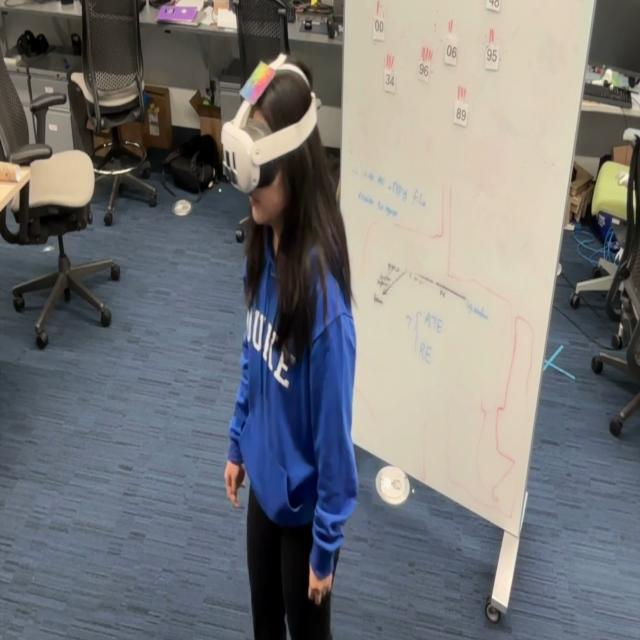Headset: (221, 58, 318, 194)
Marker: (244, 57, 279, 108)
